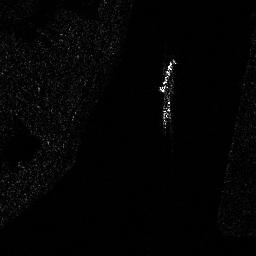ship: (160, 57, 175, 94)
